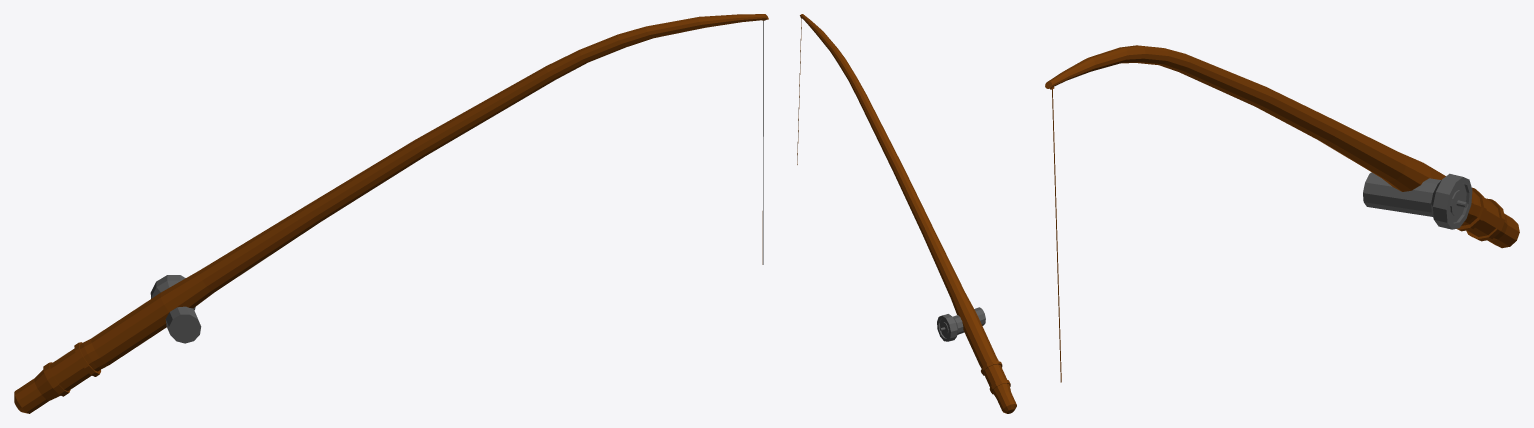
The model's file is wedkaFBX.fbx.
3 renders of one model, left to right at view 1: azimuth 30°, elevation 25°; view 2: azimuth 150°, elevation 25°; view 3: azimuth 270°, elevation 25°, orthographic. The views are drawn at different scales.
Visible parts, largest first — view 1: Walec; view 2: Walec; view 3: Walec.
Boxes of the visible parts, left/top/right/bottom form: Walec: left=14, top=14, right=768, bottom=413; Walec: left=797, top=14, right=1016, bottom=413; Walec: left=1045, top=45, right=1519, bottom=382.
Bounding box in the file's own units: 317 × 220 × 199.
